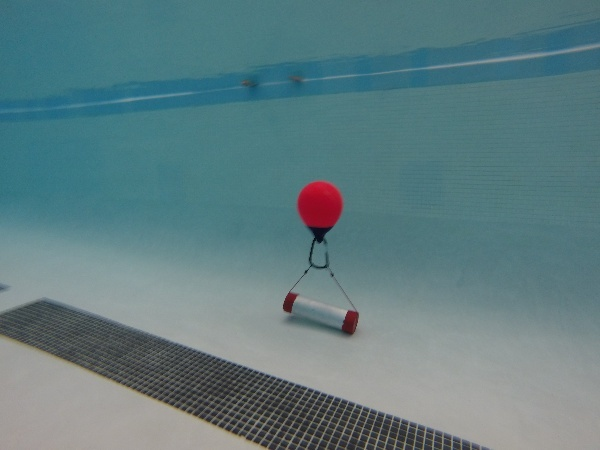buoy_red: (294, 180, 346, 248)
